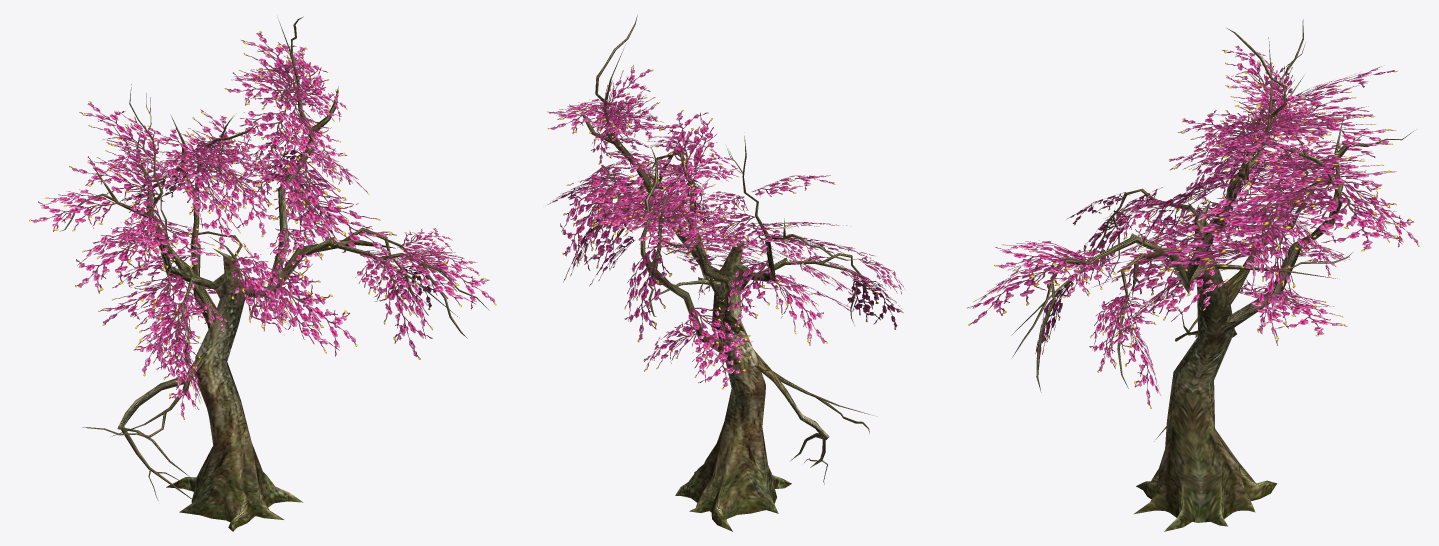
Rendered from S_Tree_Red005.FBX.
3 views of the same model, side by side, from view 1: azimuth 30°, elevation 25°; view 2: azimuth 150°, elevation 25°; view 3: azimuth 270°, elevation 25° (orthographic). The views are drawn at different scales.
Visible parts, largest first — view 1: S_Tree_Yellow044; view 2: S_Tree_Yellow044; view 3: S_Tree_Yellow044.
Boxes of the visible parts, x1,y1,x2,y2 form: S_Tree_Yellow044: (29, 16, 496, 531); S_Tree_Yellow044: (547, 15, 905, 531); S_Tree_Yellow044: (967, 19, 1419, 531).
Bounding box in the file's own units: 725 × 675 × 804.
